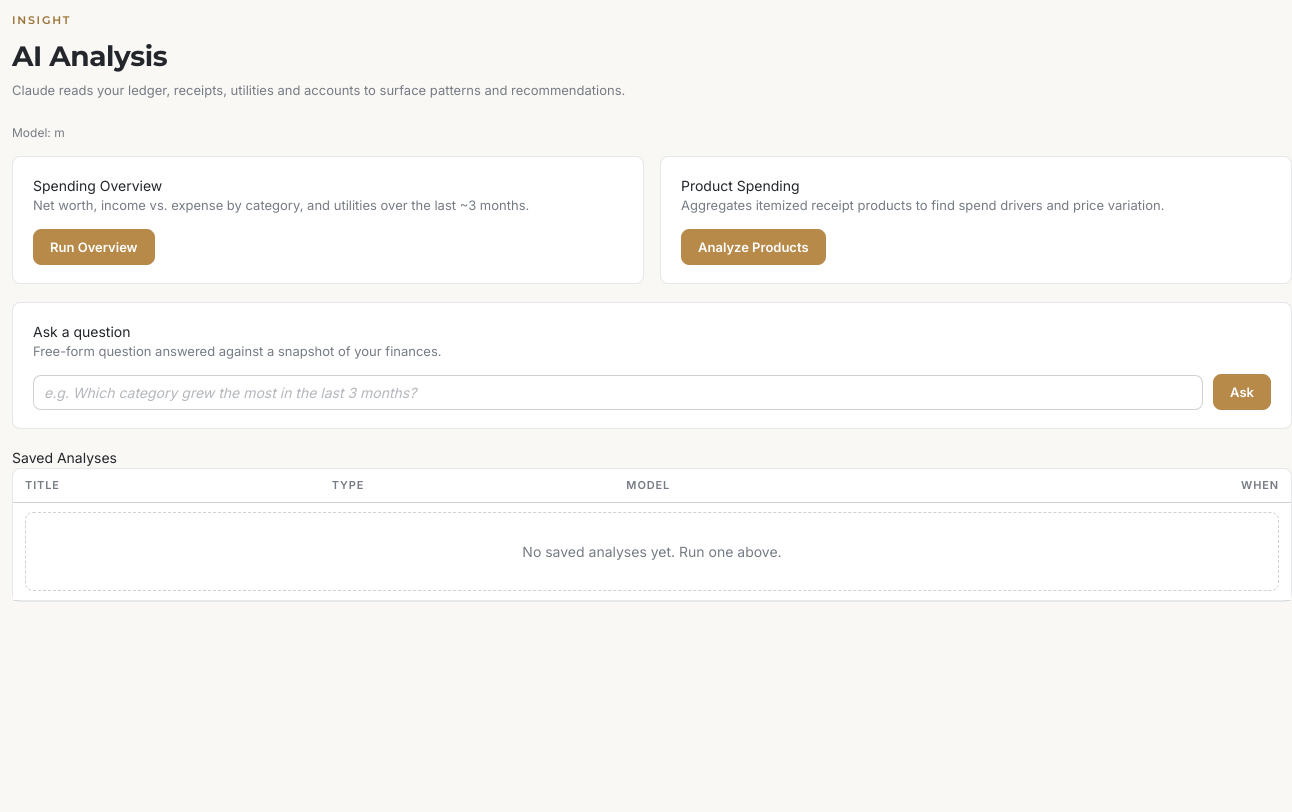
Scenario: Analysis page › runs the spending overview and renders the AI result
Click the button "Run Overview": (94, 246) top-left (33, 228), bottom-right (154, 264)
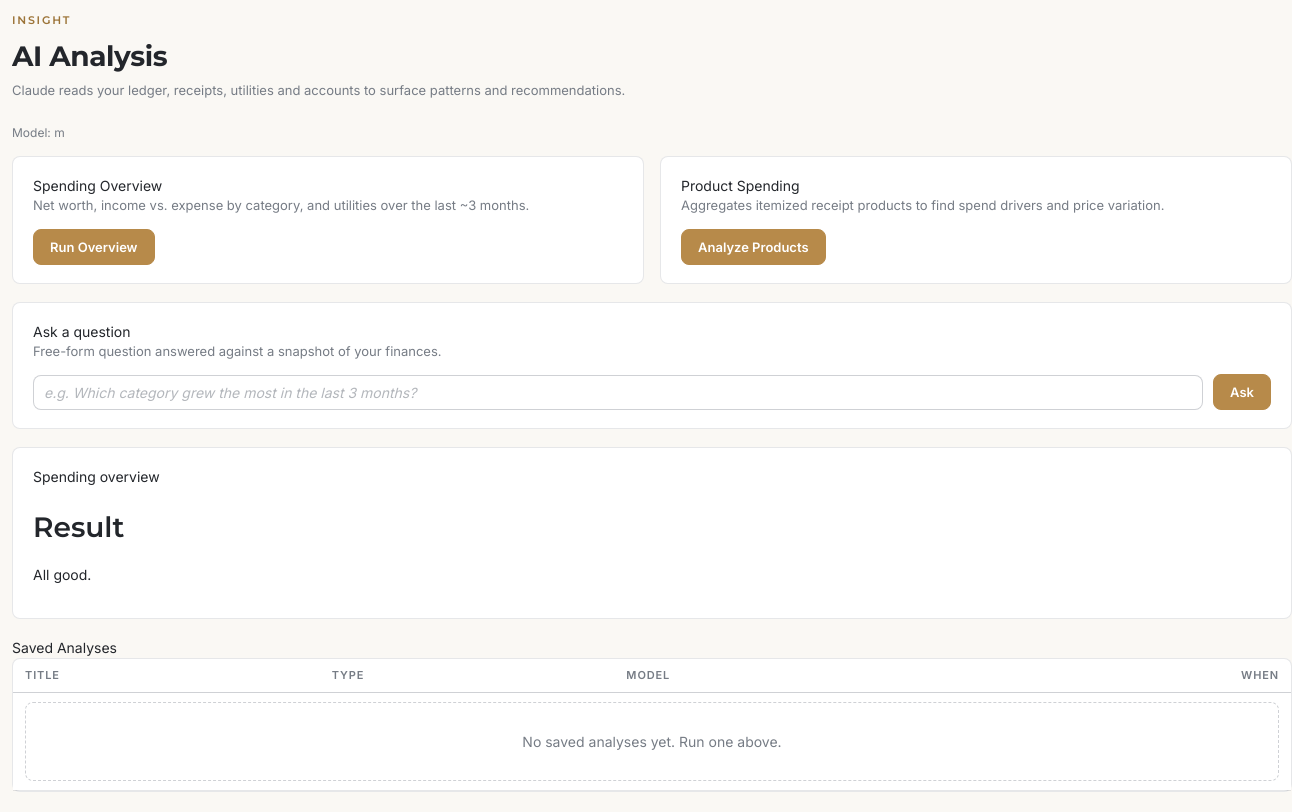
Expected: the heading "Result" is shown, top-left (33, 510), bottom-right (124, 544)
